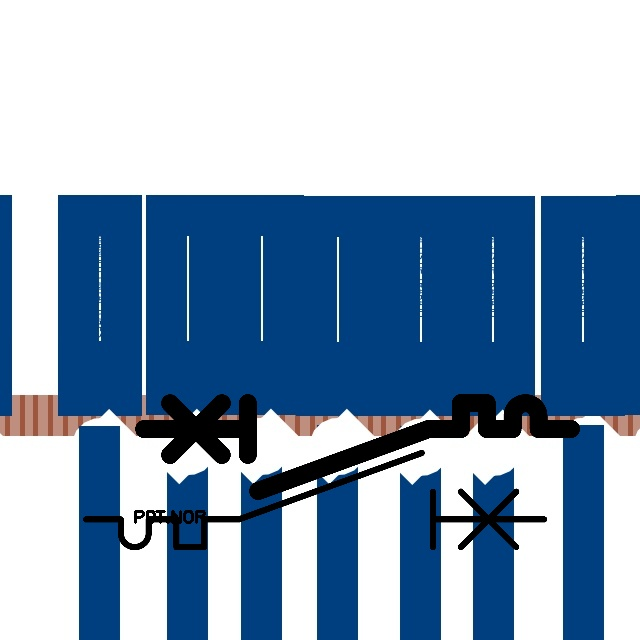interruptor_termomagnetico: (74, 441, 556, 559), (133, 392, 582, 502)
